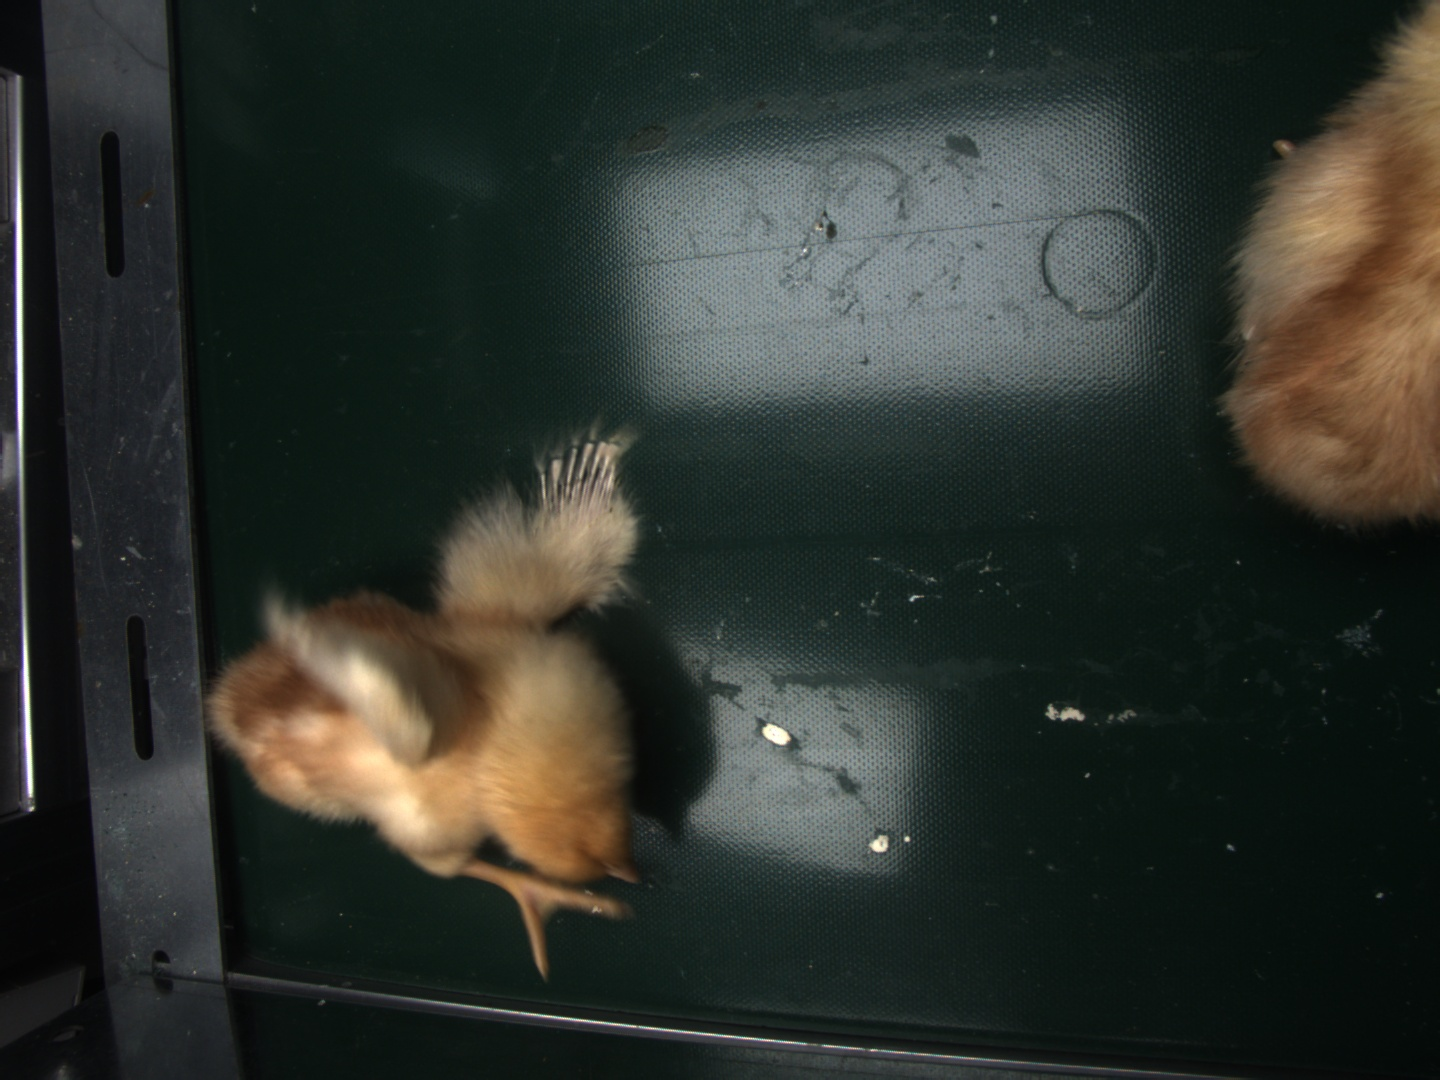female: (543, 441, 622, 508)
